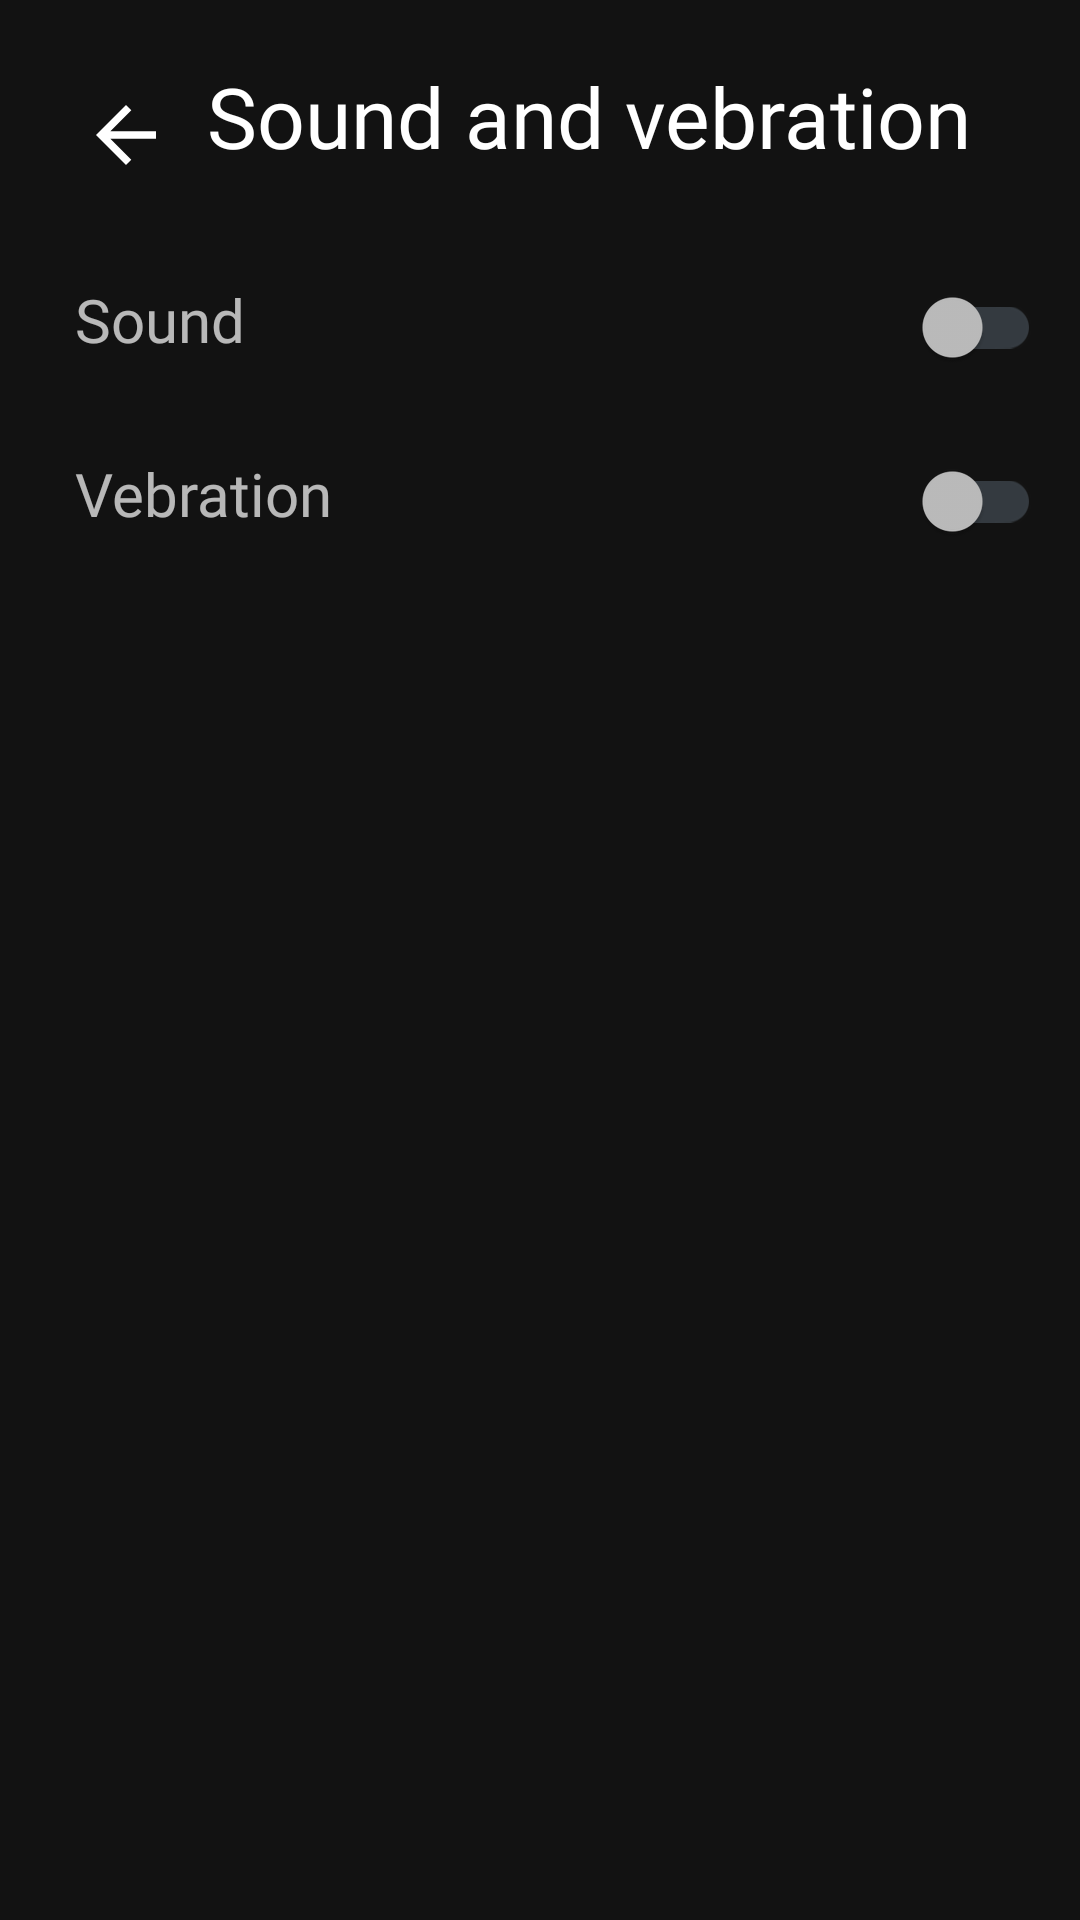

Icons on this 1080 x 1920 Android screen, each with the point to tap as (x=x, y=y):
back: (x=126, y=135)
